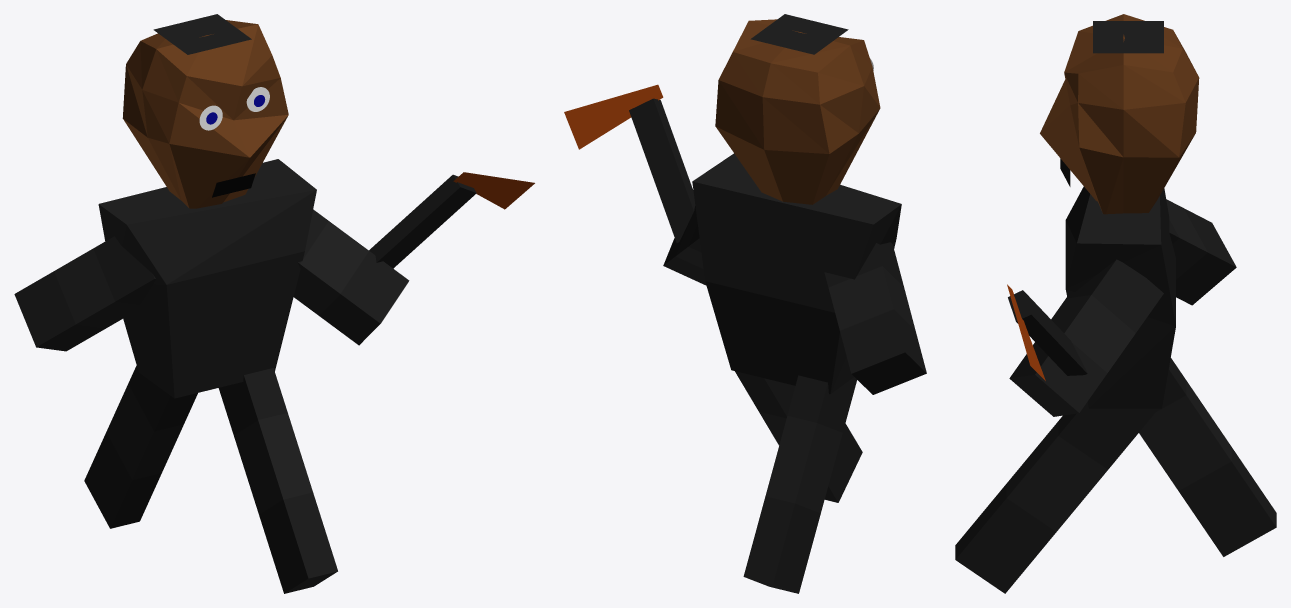
Rendered from axeman3.obj.
3 views of the same model, side by side, from view 1: azimuth 30°, elevation 25°; view 2: azimuth 150°, elevation 25°; view 3: azimuth 270°, elevation 25° (orthographic). The views are drawn at different scales.
Parts seen in each view (by area): view 1: Cube.001, Cube, Cube.005, Cube.004, Cube.003, Cube.002, Cube.007, Plane.002, Plane.001; view 2: Cube.001, Cube, Cube.004, Cube.003, Cube.007, Cube.005, Plane.001, Plane.002, Cube.002; view 3: Cube, Cube.005, Cube.001, Cube.004, Cube.002, Cube.003, Cube.007, Plane.002, Plane.001.
Part boxes in pixels (box(x1,y1,x2,y2)): Cube.001: box(98, 159, 316, 398); Cube: box(122, 20, 288, 208); Cube.005: box(218, 368, 337, 593); Cube.004: box(84, 365, 197, 528); Cube.003: box(14, 236, 155, 351); Cube.002: box(293, 209, 409, 345); Cube.007: box(369, 174, 476, 268); Plane.002: box(153, 14, 251, 54); Plane.001: box(453, 172, 534, 209); Cube.001: box(692, 153, 901, 394); Cube: box(715, 19, 880, 204); Cube.004: box(743, 375, 856, 593); Cube.003: box(824, 242, 926, 394); Cube.007: box(629, 98, 695, 243); Cube.005: box(735, 371, 862, 502); Plane.001: box(564, 84, 663, 149); Plane.002: box(750, 14, 848, 54); Cube.002: box(663, 206, 706, 285); Cube: box(1040, 14, 1199, 214); Cube.005: box(955, 402, 1158, 593); Cube.001: box(1065, 186, 1175, 408); Cube.004: box(1139, 357, 1276, 556); Cube.002: box(1009, 259, 1163, 416); Cube.003: box(1166, 199, 1236, 305); Cube.007: box(1008, 290, 1087, 375); Plane.002: box(1093, 21, 1163, 53); Plane.001: box(1007, 284, 1045, 380).
Size of the model in its own units: 5.03 by 5.79 by 3.17.
